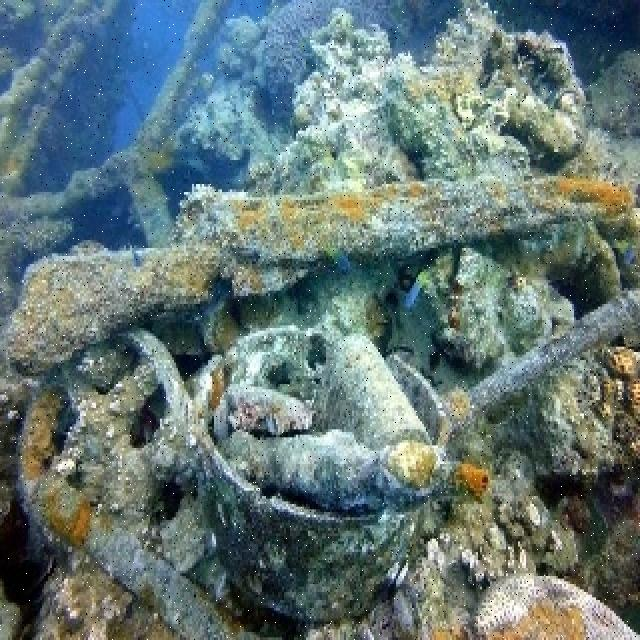wrecks-ruins: (181, 288, 638, 628), (4, 173, 637, 373)
